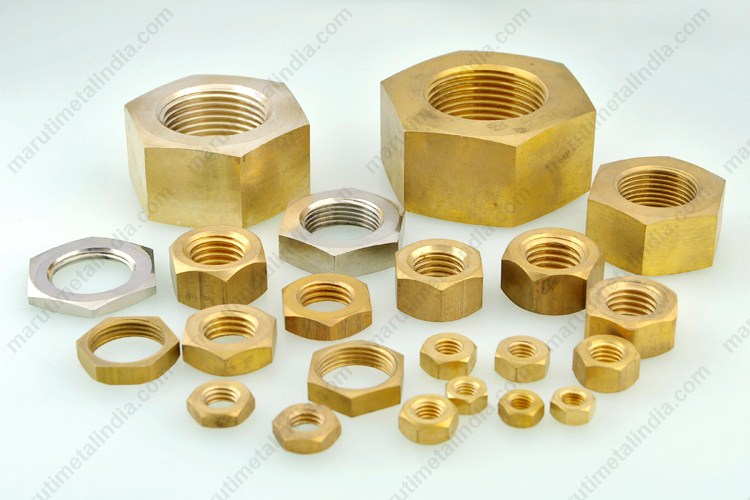hex nut: (368, 43, 613, 235), (111, 64, 329, 248), (574, 147, 741, 288), (158, 216, 277, 316), (375, 228, 494, 328), (497, 222, 616, 322)
